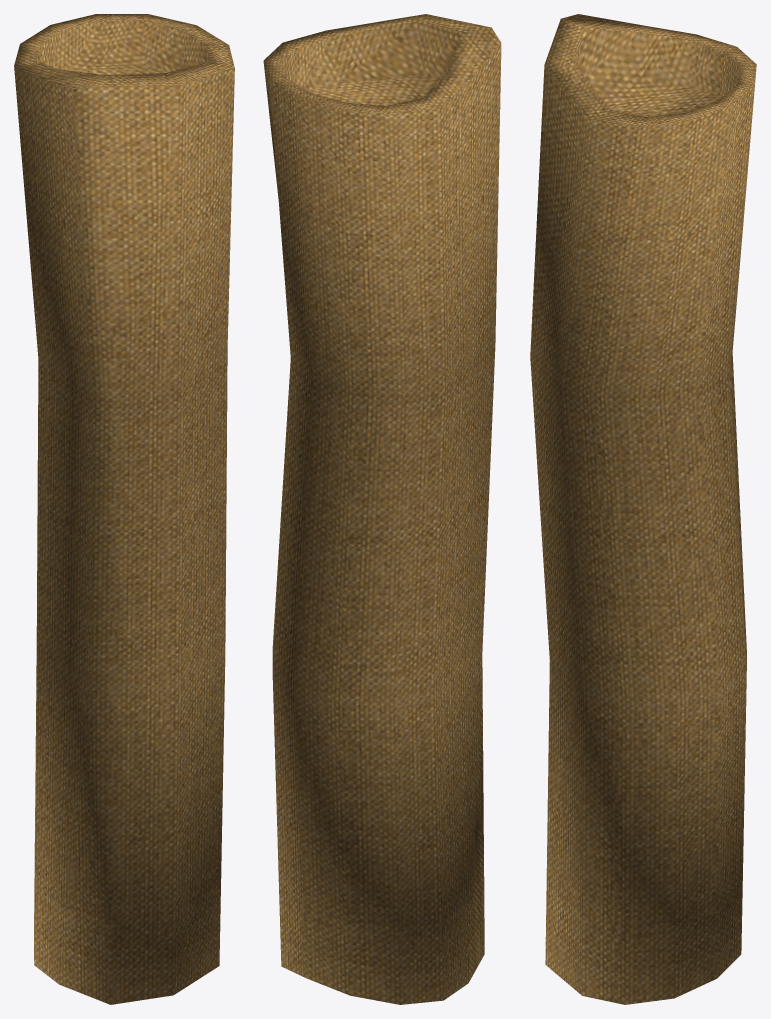
File: Material_Roll_2.fbx
The picture shows the model from 3 angles, left to right: view 1: azimuth 30°, elevation 25°; view 2: azimuth 150°, elevation 25°; view 3: azimuth 270°, elevation 25°; orthographic projection.
Parts seen in each view (by area): view 1: Material_Roll_2; view 2: Material_Roll_2; view 3: Material_Roll_2.
Boxes of the visible parts, x1,y1,x2,y2 form: Material_Roll_2: (14, 14, 234, 1004); Material_Roll_2: (263, 14, 501, 1004); Material_Roll_2: (530, 14, 756, 1004).
Bounding box in the file's own units: 0.2302 × 1.07 × 0.2409.
